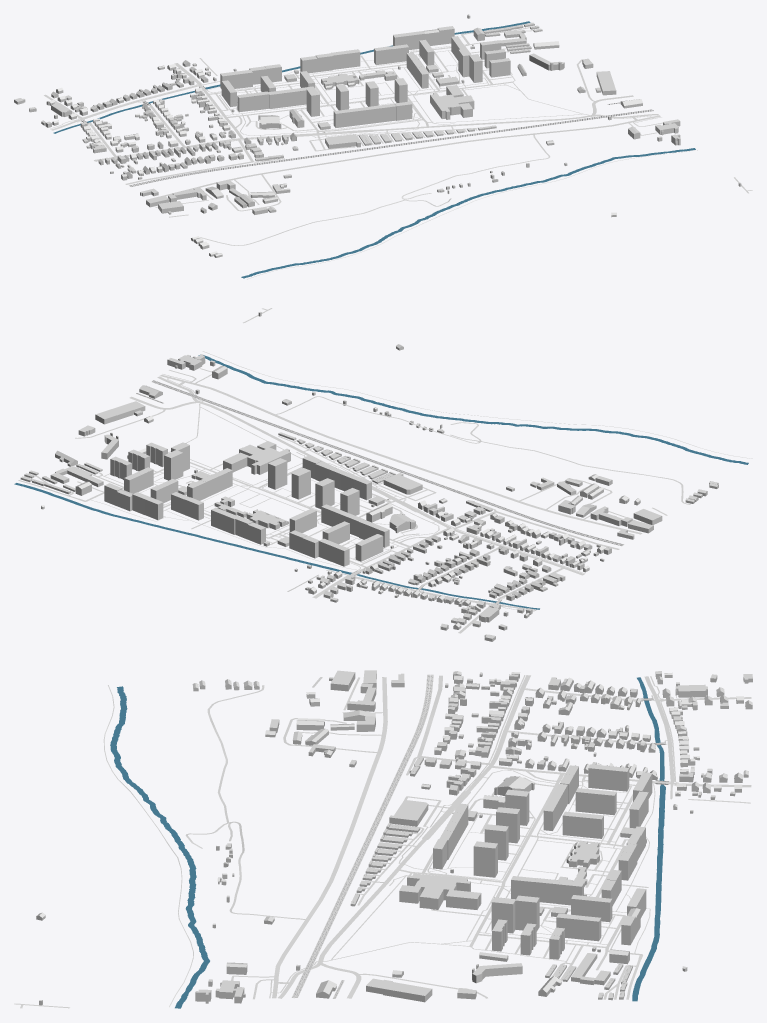
The model's file is objekty.glb.
The picture shows the model from 3 angles, top to bottom: view 1: azimuth 30°, elevation 25°; view 2: azimuth 150°, elevation 25°; view 3: azimuth 270°, elevation 25°; orthographic projection. The views are drawn at different scales.
Visible parts, largest first — view 1: Budovy_02_04, Cesty_02_04, Okna_Dvere_02_04, Voda_02_04, Kolajnice_02_04; view 2: Budovy_02_04, Cesty_02_04, Okna_Dvere_02_04, Voda_02_04, Kolajnice_02_04; view 3: Budovy_02_04, Cesty_02_04, Okna_Dvere_02_04, Voda_02_04.
Part boxes in pixels (<box>): Budovy_02_04: <box>14,14,741,257</box>; Cesty_02_04: <box>44,22,752,279</box>; Okna_Dvere_02_04: <box>14,17,740,256</box>; Voda_02_04: <box>53,21,695,278</box>; Kolajnice_02_04: <box>130,103,653,186</box>; Budovy_02_04: <box>20,312,718,641</box>; Cesty_02_04: <box>18,308,752,633</box>; Okna_Dvere_02_04: <box>21,313,718,640</box>; Voda_02_04: <box>14,354,748,609</box>; Kolajnice_02_04: <box>136,380,622,545</box>; Budovy_02_04: <box>36,670,752,1005</box>; Cesty_02_04: <box>14,674,751,1008</box>; Okna_Dvere_02_04: <box>37,675,752,1004</box>; Voda_02_04: <box>110,677,665,1008</box>.
Bounding box in the file's own units: 1022 × 60.33 × 981.
